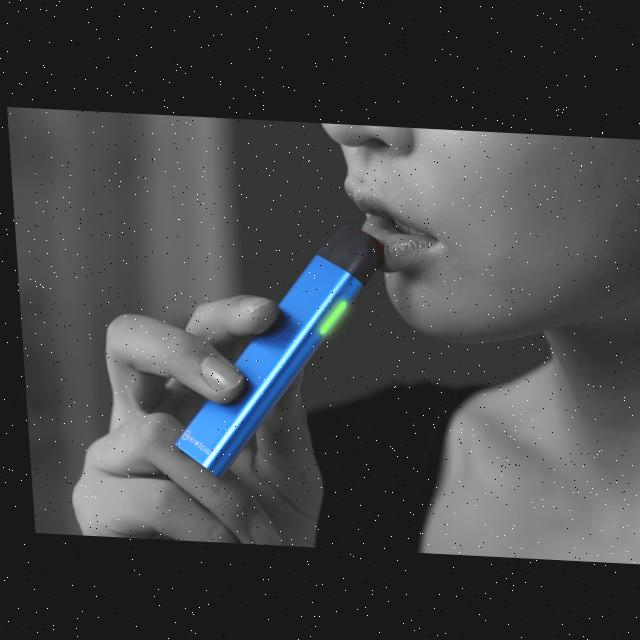vape: (157, 213, 392, 483)
